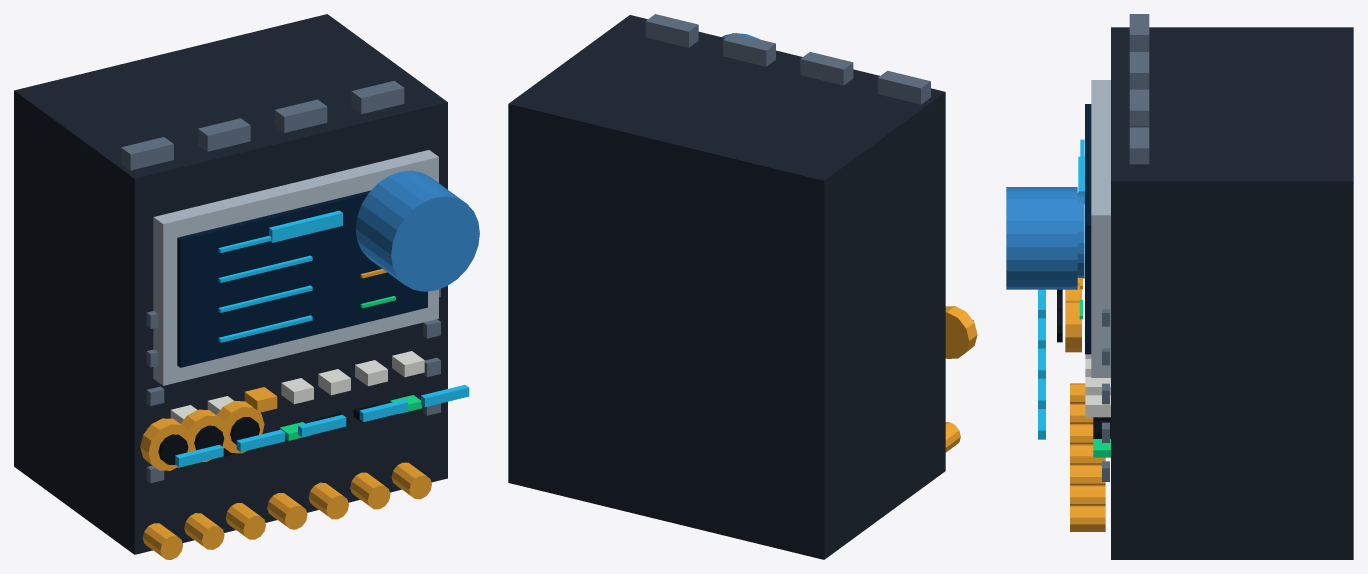
The model's file is 24_L87_PrimaryRadialGapSensor.fbx.
3 renders of one model, left to right at view 1: azimuth 30°, elevation 25°; view 2: azimuth 150°, elevation 25°; view 3: azimuth 270°, elevation 25°, orthographic.
Parts seen in each view (by area): view 1: L87_PrimaryRadialGapSensor, L87_PrimaryRadialGapSensor_Part_0012, L87_PrimaryRadialGapSensor_Part_0010, L87_PrimaryRadialGapSensor_Part_0013, L87_PrimaryRadialGapSensor_Part_0011, L87_PrimaryRadialGapSensor_Part_0017, L87_PrimaryRadialGapSensor_Part_0015, L87_PrimaryRadialGapSensor_Part_0014; view 2: L87_PrimaryRadialGapSensor, L87_PrimaryRadialGapSensor_Part_0010, L87_PrimaryRadialGapSensor_Part_0013; view 3: L87_PrimaryRadialGapSensor, L87_PrimaryRadialGapSensor_Part_0012, L87_PrimaryRadialGapSensor_Part_0010, L87_PrimaryRadialGapSensor_Part_0017.
Part boxes in pixels (x1=…): L87_PrimaryRadialGapSensor: x1=14, y1=14, x2=469, y2=559; L87_PrimaryRadialGapSensor_Part_0012: x1=355, y1=170, x2=479, y2=291; L87_PrimaryRadialGapSensor_Part_0010: x1=121, y1=80, x2=404, y2=170; L87_PrimaryRadialGapSensor_Part_0013: x1=140, y1=418, x2=192, y2=470; L87_PrimaryRadialGapSensor_Part_0011: x1=269, y1=210, x2=342, y2=242; L87_PrimaryRadialGapSensor_Part_0017: x1=216, y1=401, x2=264, y2=453; L87_PrimaryRadialGapSensor_Part_0015: x1=181, y1=409, x2=228, y2=462; L87_PrimaryRadialGapSensor_Part_0014: x1=158, y1=434, x2=188, y2=464; L87_PrimaryRadialGapSensor: x1=508, y1=15, x2=973, y2=559; L87_PrimaryRadialGapSensor_Part_0010: x1=645, y1=14, x2=930, y2=104; L87_PrimaryRadialGapSensor_Part_0013: x1=945, y1=306, x2=977, y2=358; L87_PrimaryRadialGapSensor: x1=1038, y1=27, x2=1353, y2=559; L87_PrimaryRadialGapSensor_Part_0012: x1=1006, y1=187, x2=1077, y2=289; L87_PrimaryRadialGapSensor_Part_0010: x1=1129, y1=14, x2=1149, y2=164; L87_PrimaryRadialGapSensor_Part_0017: x1=1065, y1=300, x2=1081, y2=352.
Bounding box in the file's own units: 94.4 × 110 × 87.6.
